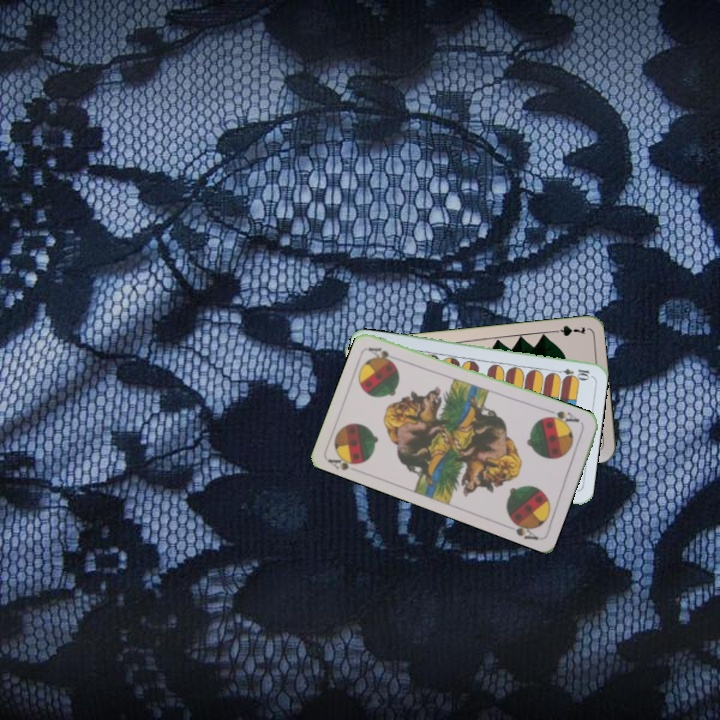E10: (551, 364, 592, 380)
G7: (547, 321, 588, 338)
SA: (324, 449, 366, 473), (543, 406, 582, 429)
